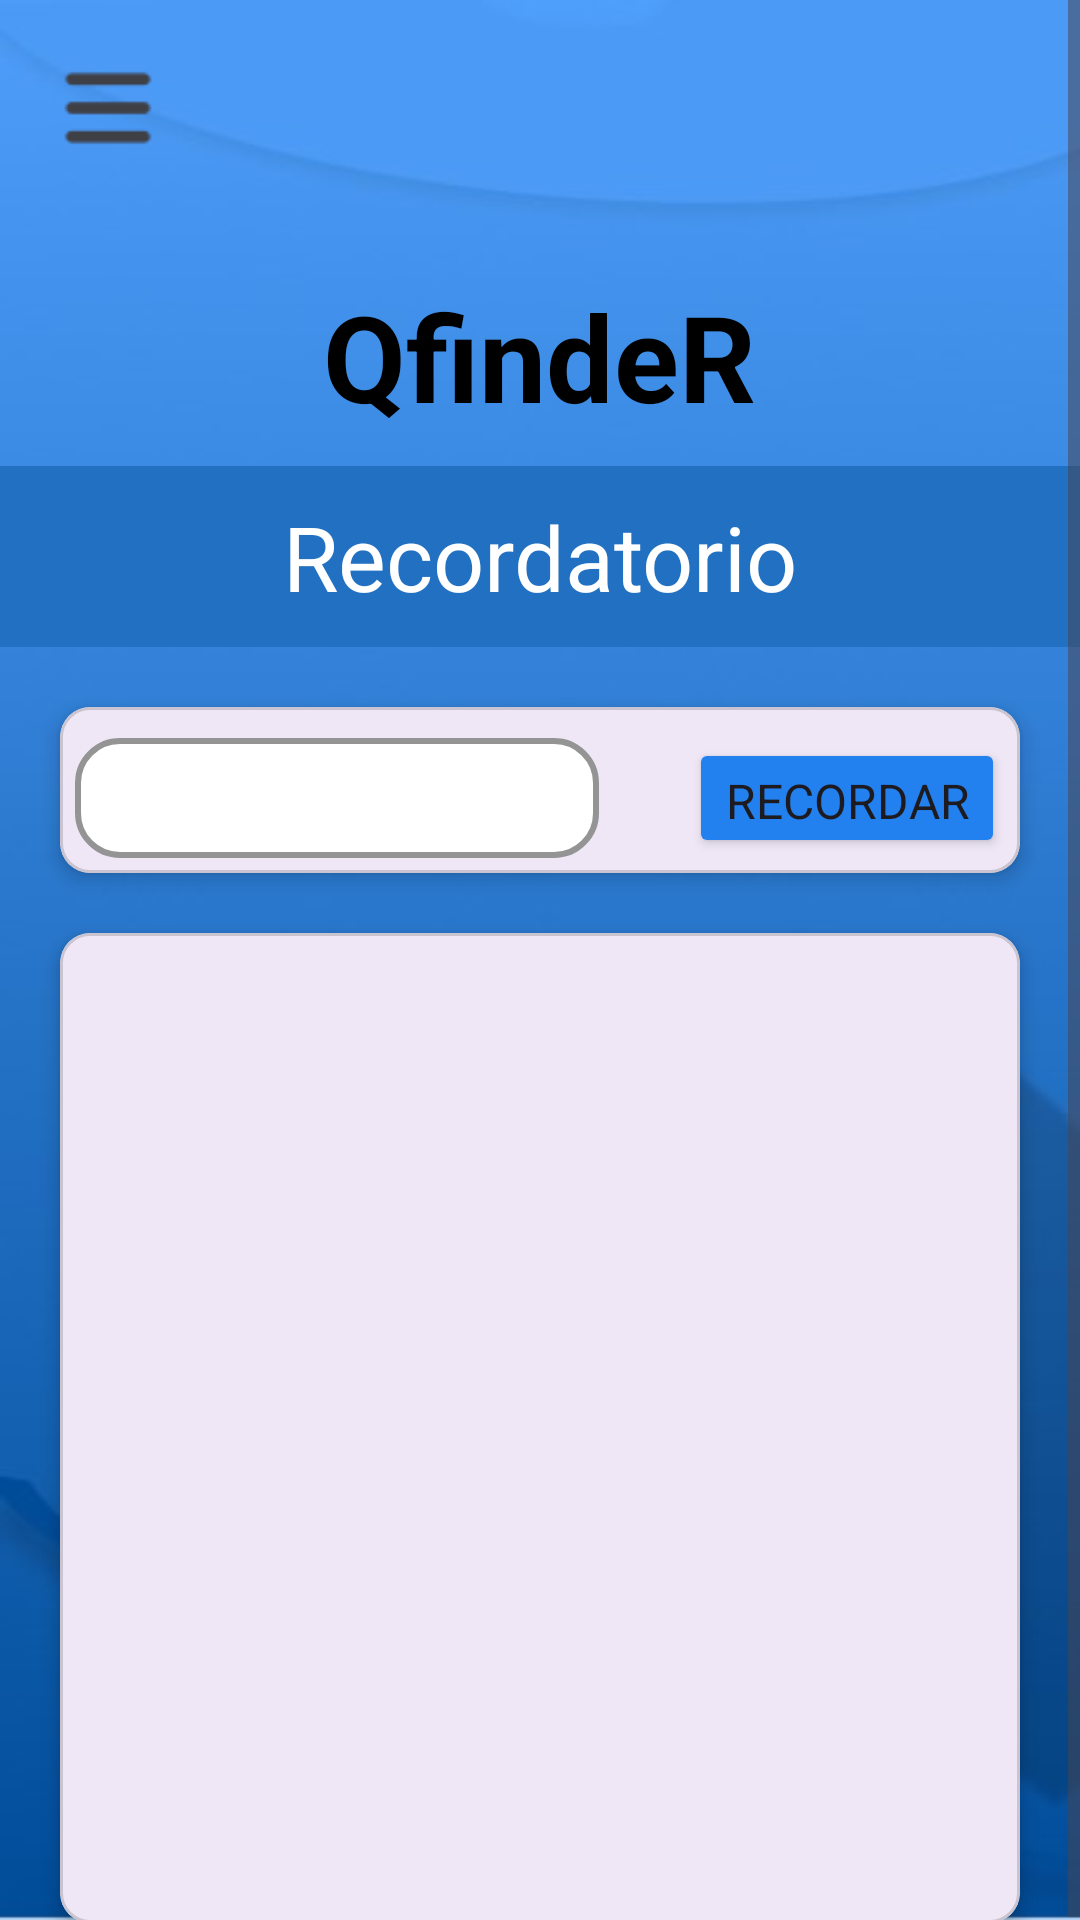

Screen size 1080px x 1920px. Icon name, then its box in pixels as (x1, y1, x2, y2):
Menú: (64, 72, 152, 144)
